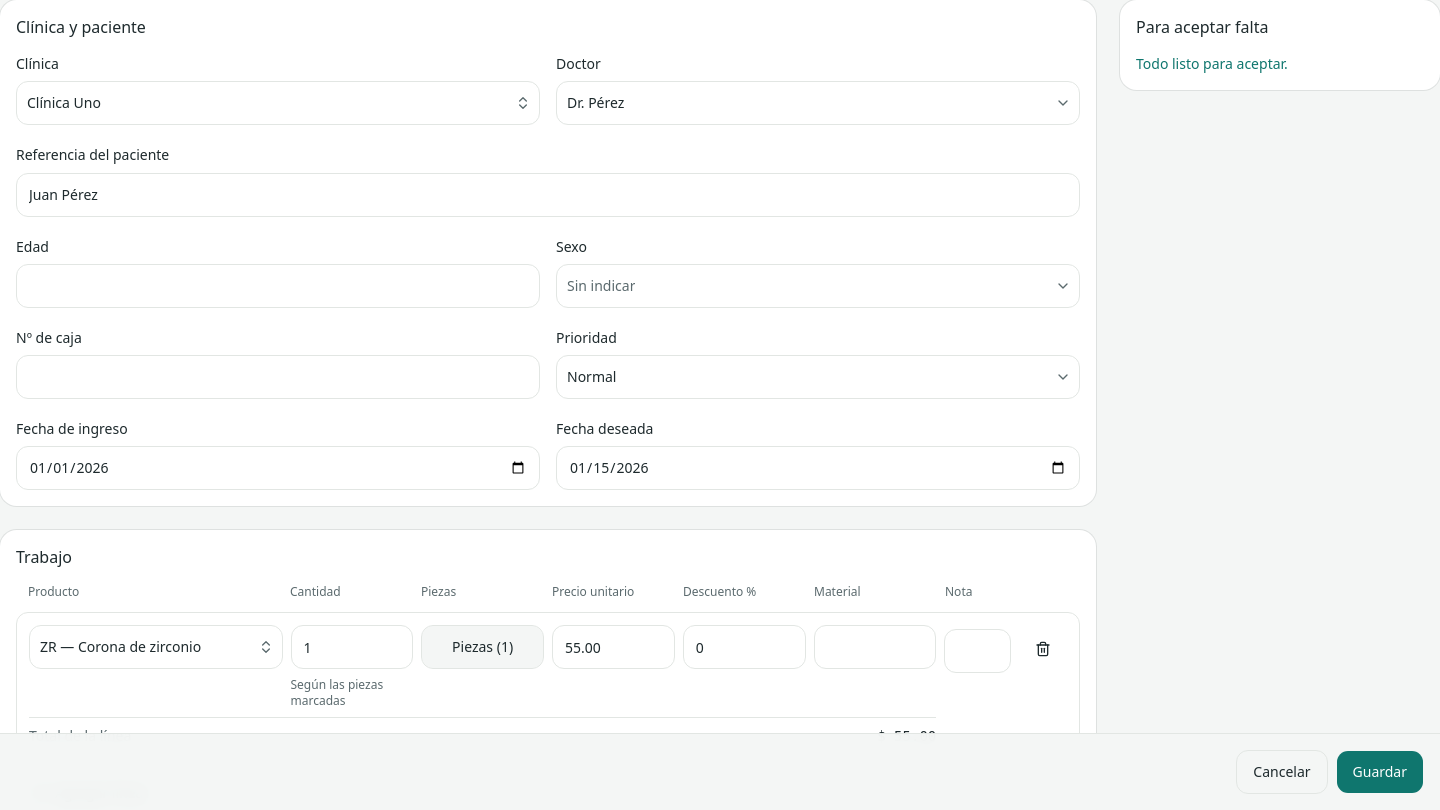
CaseForm › al editar, cambiar de clínica y volver recalcula el precio de cada una (A → B → A)
Expected: the number field named "Precio unitario" holds "55", [552,625,675,669]
Click the dropdown labelled "Clínica": (64, 103) [16,81,540,125]
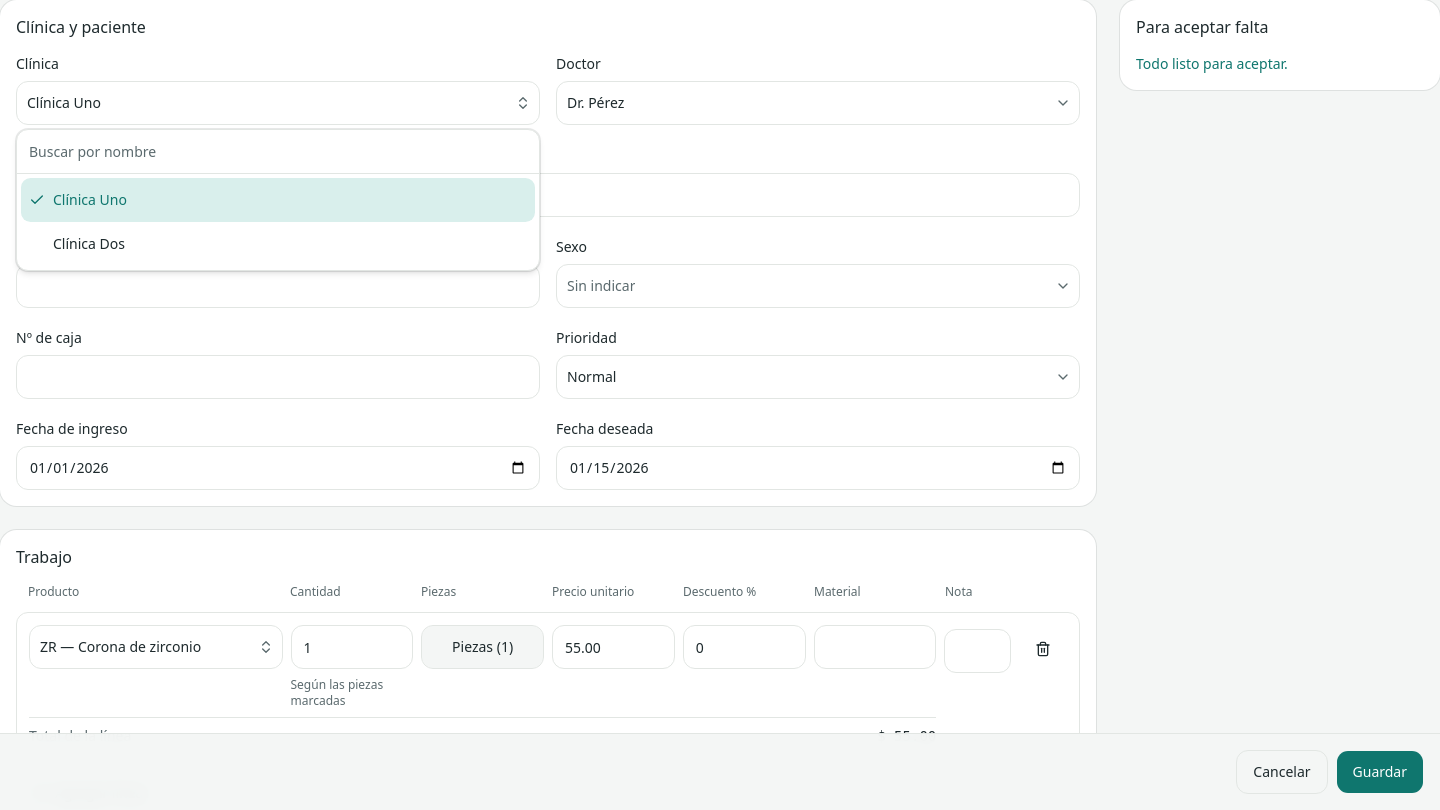
Click the option "Clínica Dos": (89, 244) [53,234,125,253]
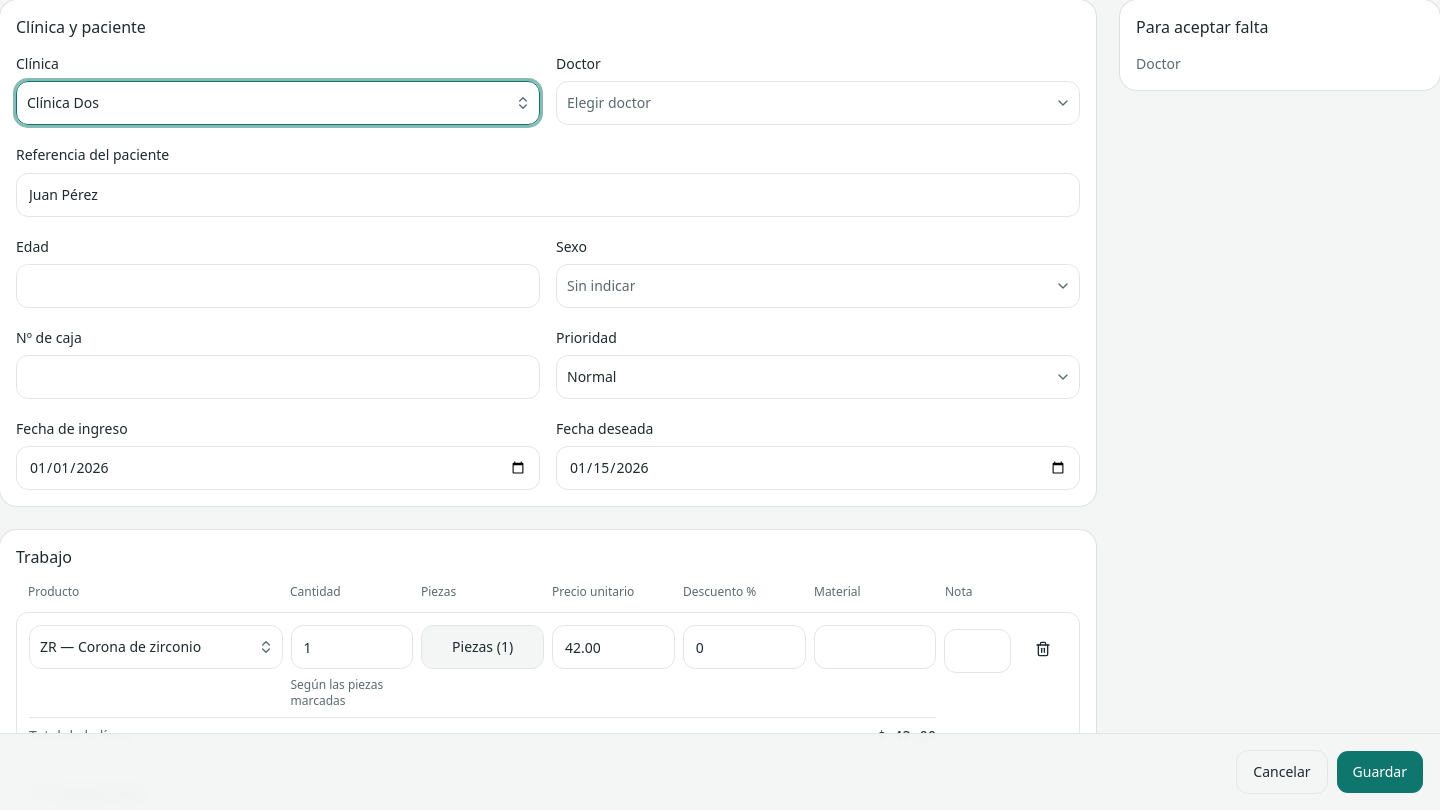
Expected: the number field named "Precio unitario" holds "42", [552,625,675,669]
Click the dropdown labelled "Clínica": (63, 103) [16,81,540,125]
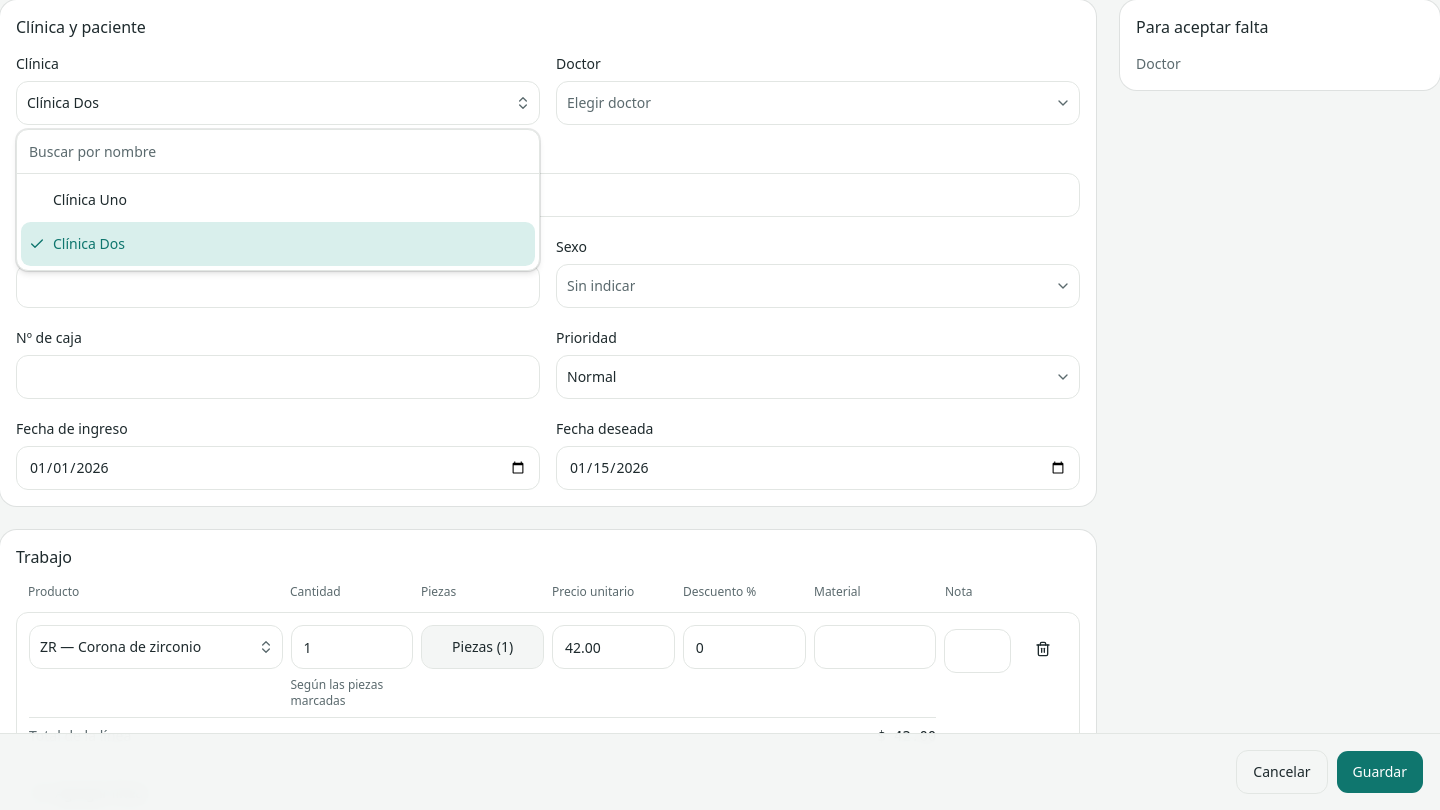
Click the option "Clínica Uno": (90, 200) [53,190,127,209]
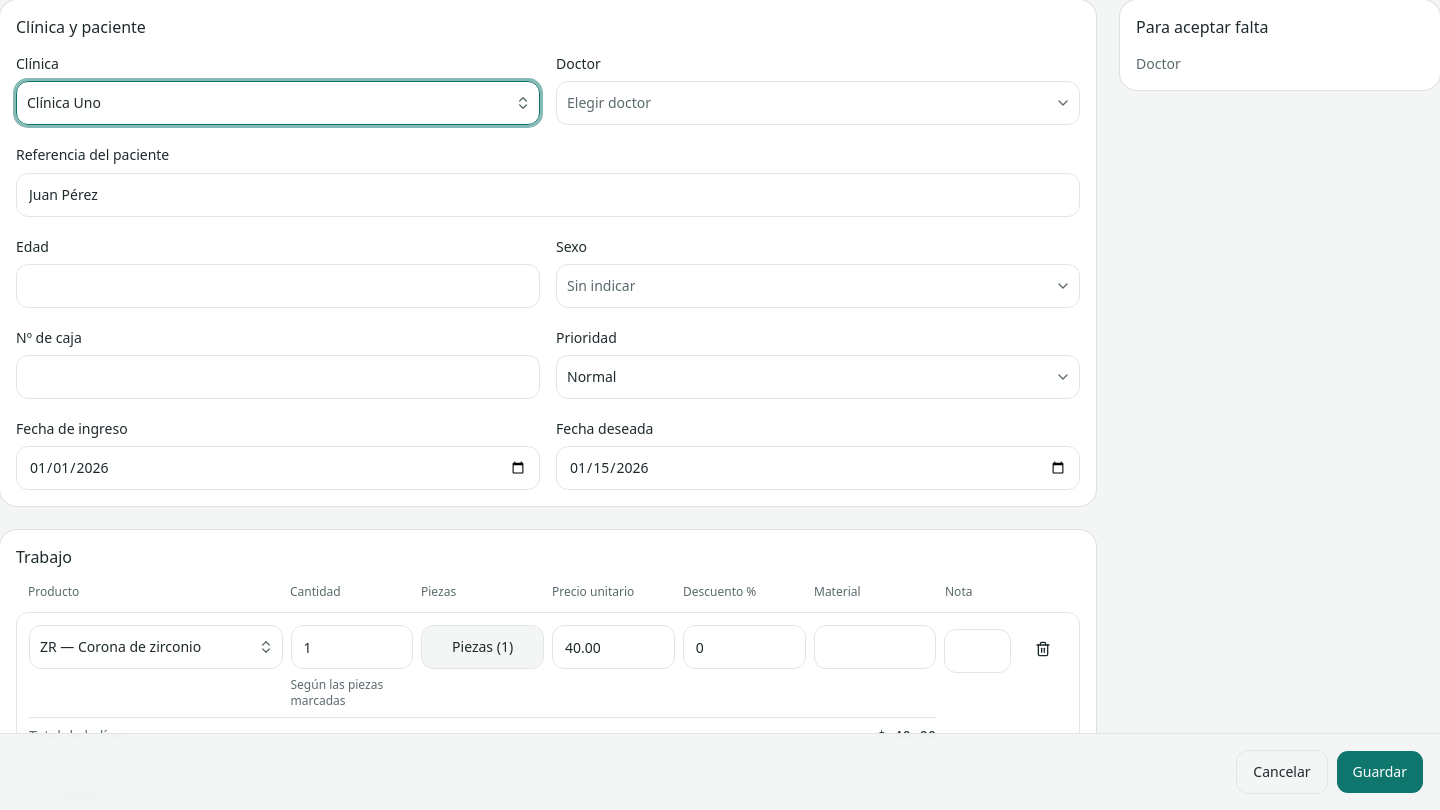
Expected: the number field named "Precio unitario" holds "40", [552,625,675,669]
